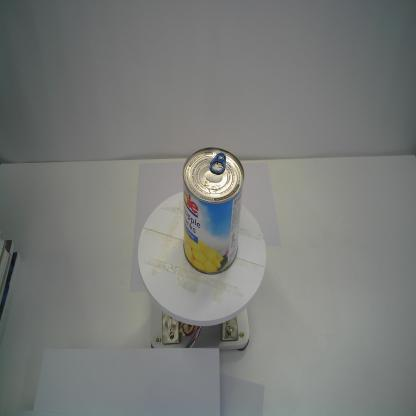Canned Food: (182, 146, 246, 276)
